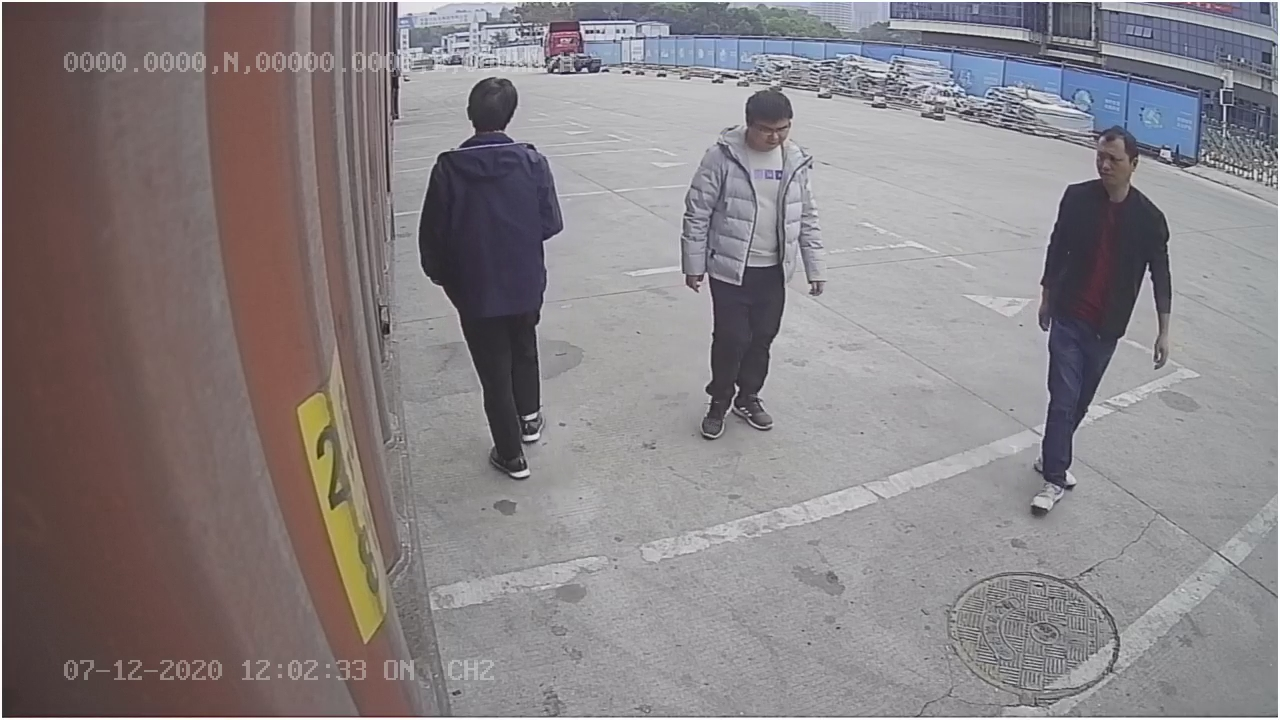person: (420, 71, 571, 484), (1025, 123, 1176, 519), (678, 82, 830, 445)
